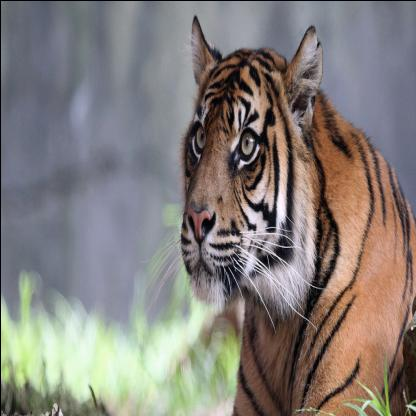tiger: (154, 20, 328, 321)
